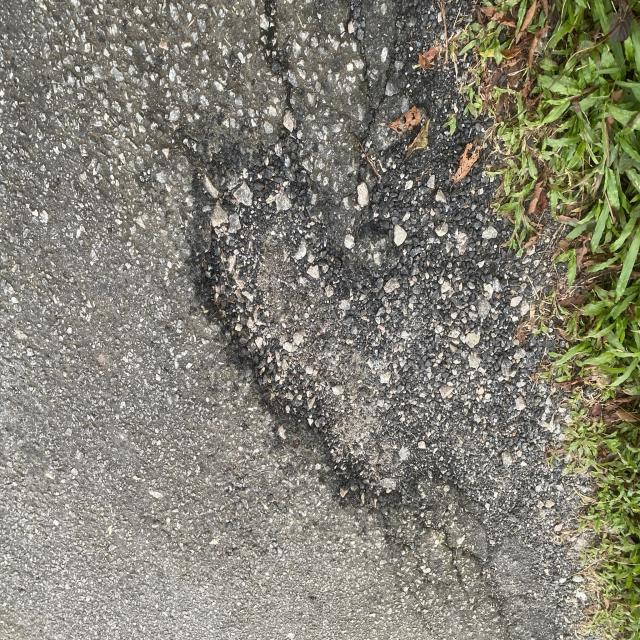pothole: (147, 158, 528, 550)
